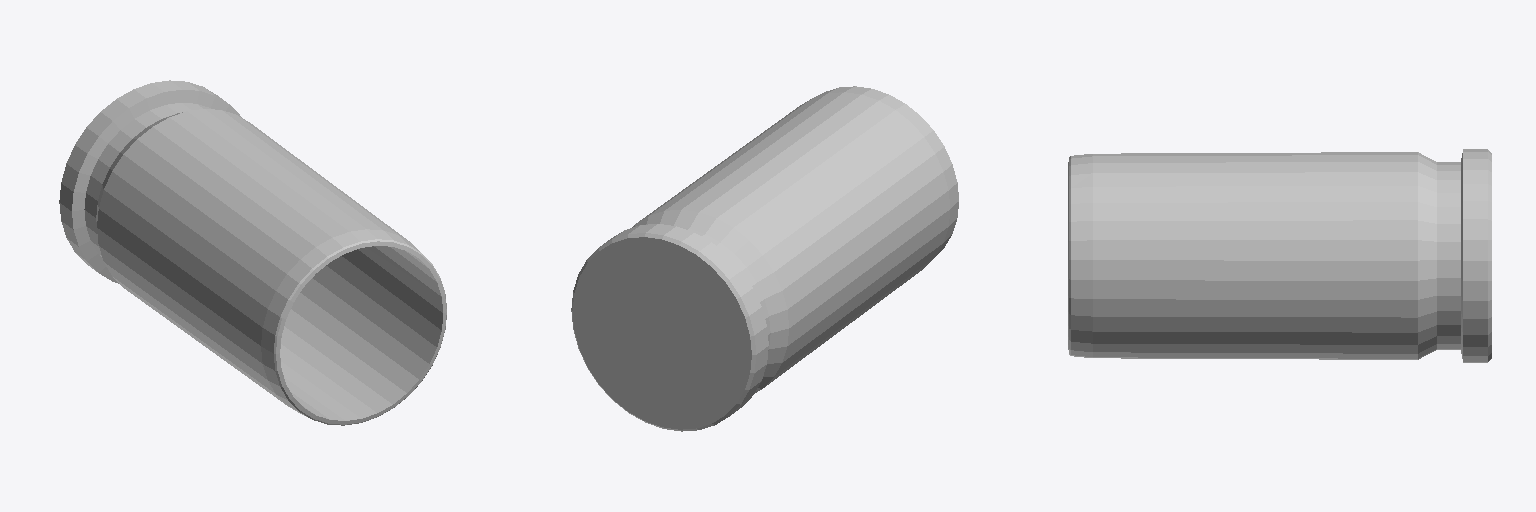
Rendered from Bullet_Case_9mm.obj.
3 views of the same model, side by side, from view 1: azimuth 30°, elevation 25°; view 2: azimuth 150°, elevation 25°; view 3: azimuth 270°, elevation 25° (orthographic).
Parts seen in each view (by area): view 1: 9mm_Shell; view 2: 9mm_Shell; view 3: 9mm_Shell.
Boxes of the visible parts, <box> form: 9mm_Shell: <box>59,80,446,425</box>; 9mm_Shell: <box>571,86,958,431</box>; 9mm_Shell: <box>1068,149,1491,362</box>.
Bounding box in the file's own units: 0.0203 × 0.0204 × 0.0403.